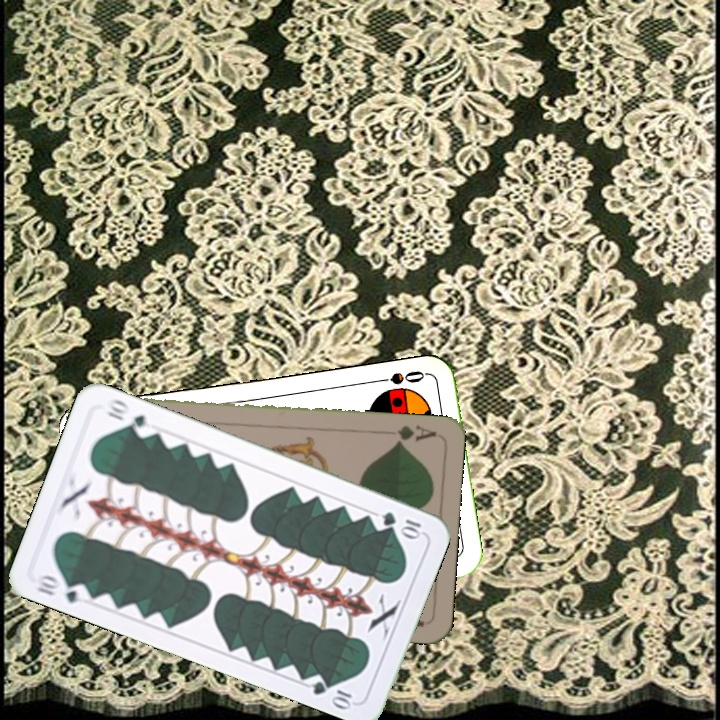G10: (32, 570, 92, 606), (378, 507, 425, 540)
GA: (391, 421, 439, 447)
SO: (370, 366, 429, 388)
